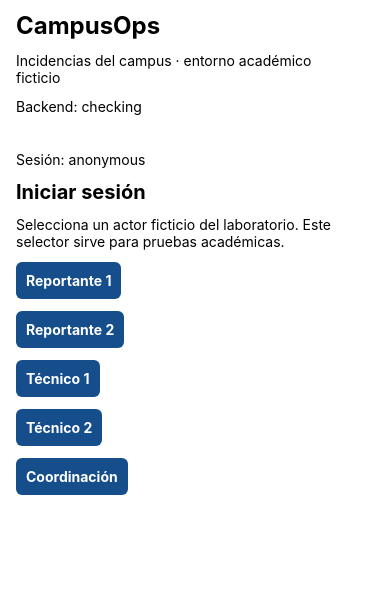
Test: failed login stays on login and never loads protected incident data
What coordinates should you click on to do the following:
click the button with test id "login-reporter-1"
I would click on:
 (69, 280)
Its box is [16, 262, 122, 299].
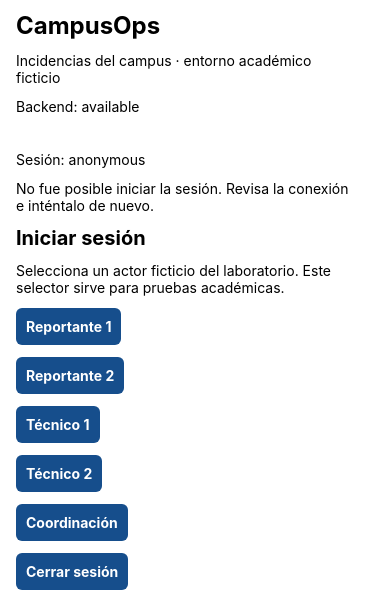
Now the text "No fue posible iniciar la sesión. Revisa la conexión e inténtalo de nuevo." is shown, box [16, 180, 358, 214]
